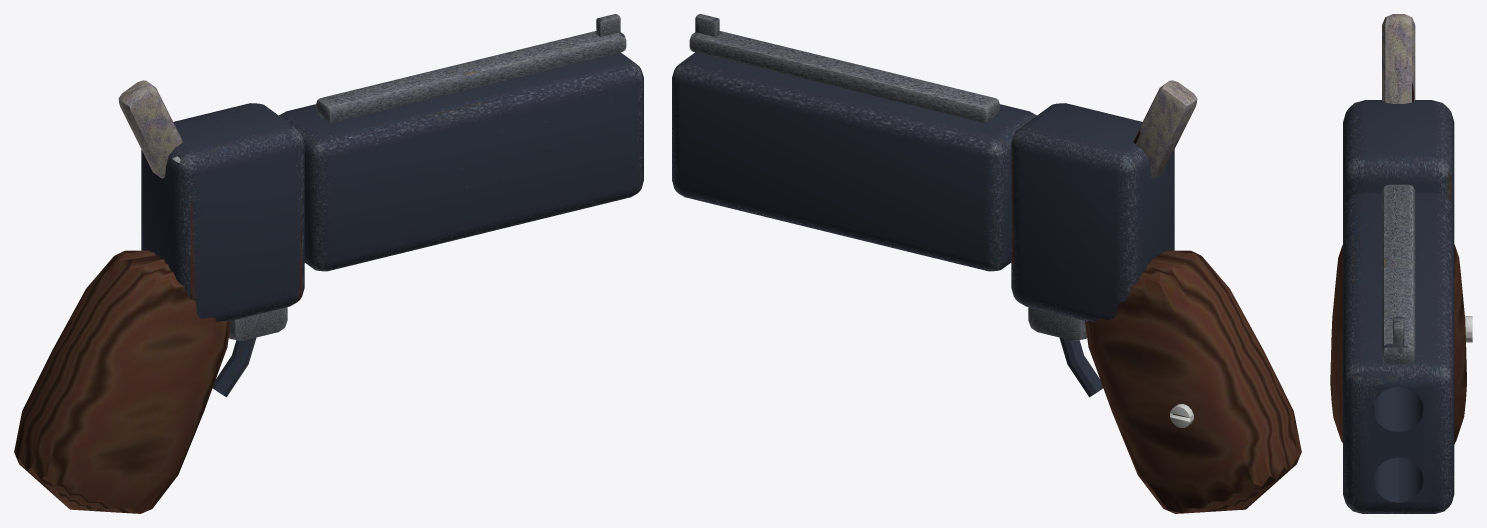
File: derringer.glb
The picture shows the model from 3 angles, left to right: view 1: azimuth 30°, elevation 25°; view 2: azimuth 150°, elevation 25°; view 3: azimuth 270°, elevation 25°; orthographic projection. The views are drawn at different scales.
Visible parts, largest first — view 1: barrels, grip, frame, rib, hammer, sheath, trigger; view 2: barrels, grip, frame, rib, hammer, sheath, trigger; view 3: barrels, frame, rib, grip, hammer, front_sight, grip_screw.
Boxes of the visible parts, x1,y1,x2,y2 form: barrels: (279, 52, 643, 271); grip: (14, 250, 230, 513); frame: (141, 103, 304, 321); rib: (316, 31, 626, 122); hammer: (118, 80, 182, 178); sheath: (228, 307, 287, 340); trigger: (213, 337, 256, 397); barrels: (672, 52, 1036, 271); grip: (1085, 250, 1301, 513); frame: (1011, 103, 1174, 321); rib: (689, 31, 999, 122); hammer: (1133, 80, 1197, 178); sheath: (1028, 307, 1087, 340); trigger: (1059, 337, 1102, 397); barrels: (1343, 192, 1454, 513); frame: (1343, 100, 1454, 210); rib: (1382, 184, 1415, 364); grip: (1330, 244, 1466, 444); hammer: (1382, 14, 1415, 103); front_sight: (1393, 317, 1404, 346); grip_screw: (1465, 316, 1472, 342).
Bounding box in the file's own units: 0.1402 × 0.0932 × 0.0256.
1 material, 1 textured.
